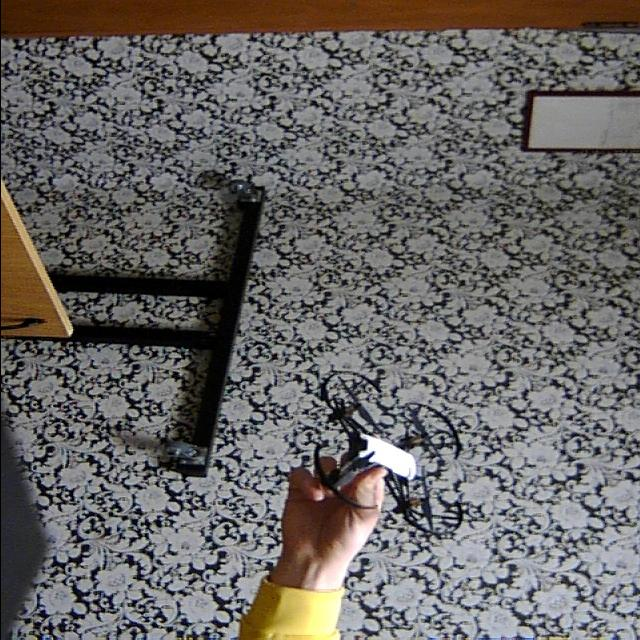drone: (290, 363, 472, 540)
